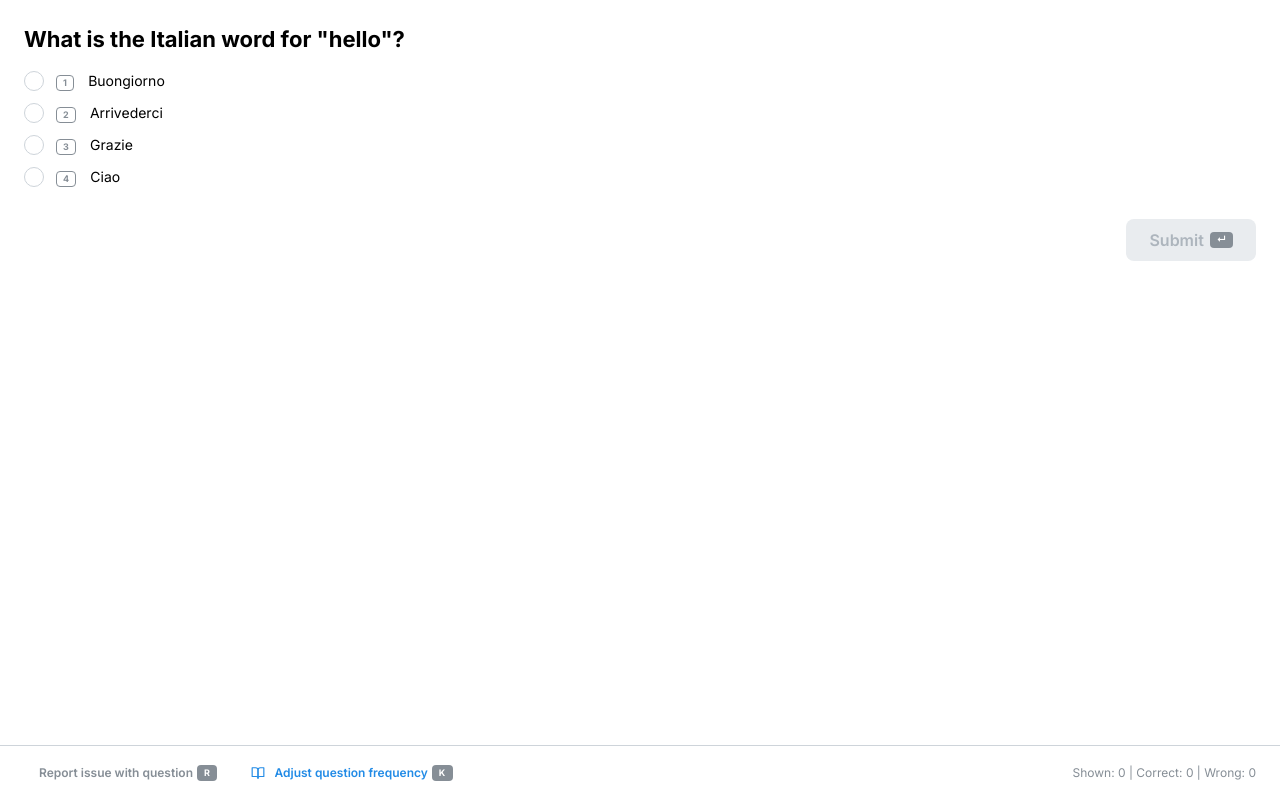
QuestionCard › Shuffling functionality › displays feedback badges correctly based on backend response
# Select an option and submit
Click the radio button labelled "1 Buongiorno": (34, 81) [24,71,44,91]
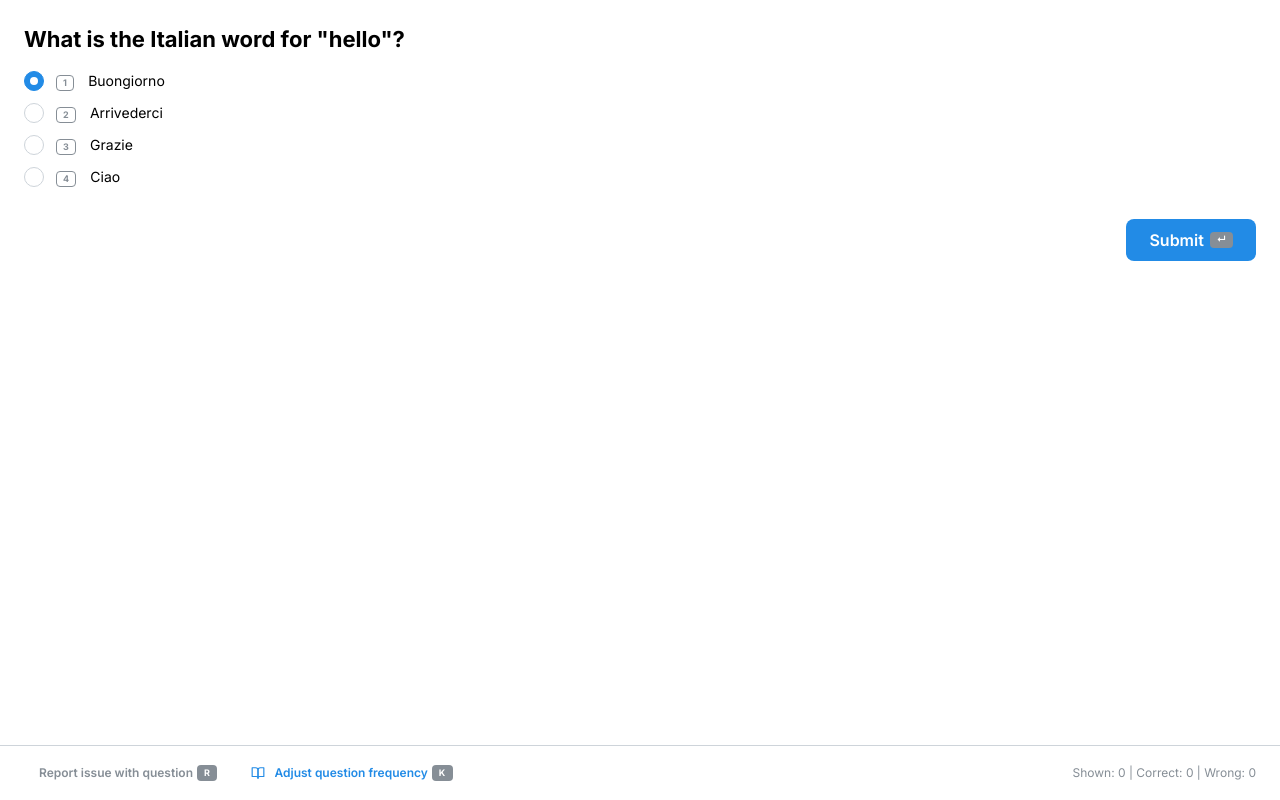
Click the button "Submit ↵": (1191, 240) [1126,219,1256,261]
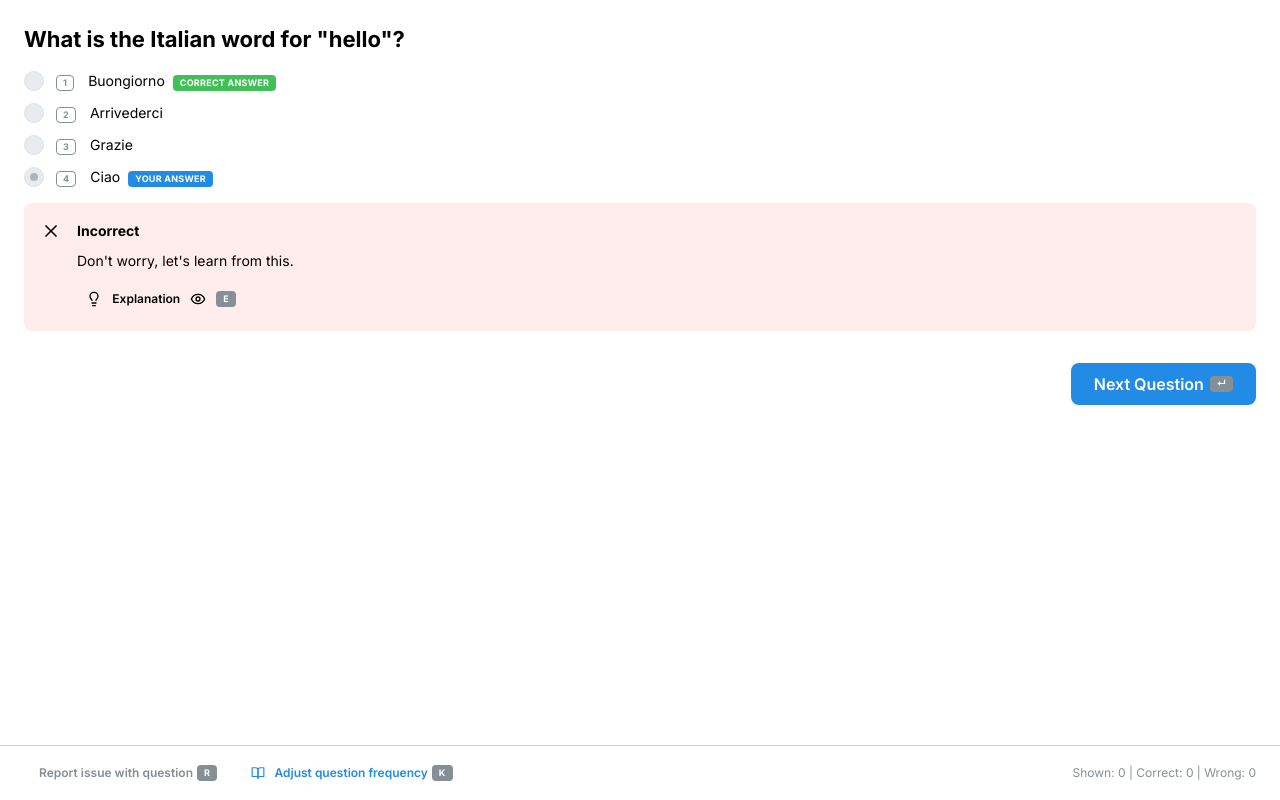
Expected: the text "Incorrect" is shown, [77,220,139,242]
Expected: the text "Your answer" is shown, [135,172,206,186]
Expected: the text "Correct answer" is shown, [180,76,269,90]
